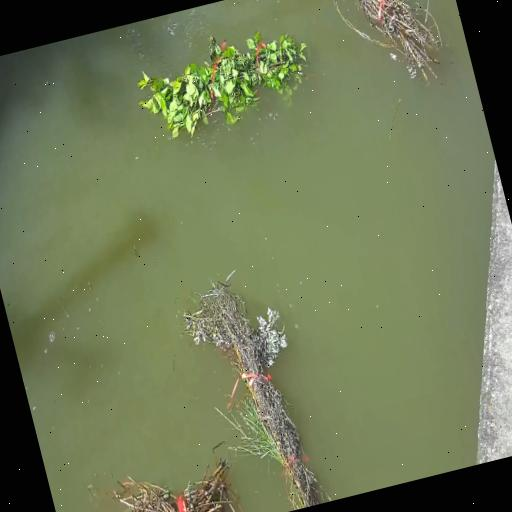twig: (183, 276, 322, 509), (138, 32, 306, 137), (341, 0, 439, 77), (127, 461, 228, 512)
